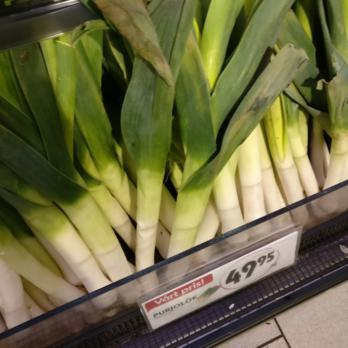Leek Leaves: (130, 0, 348, 205), (1, 49, 195, 256)
